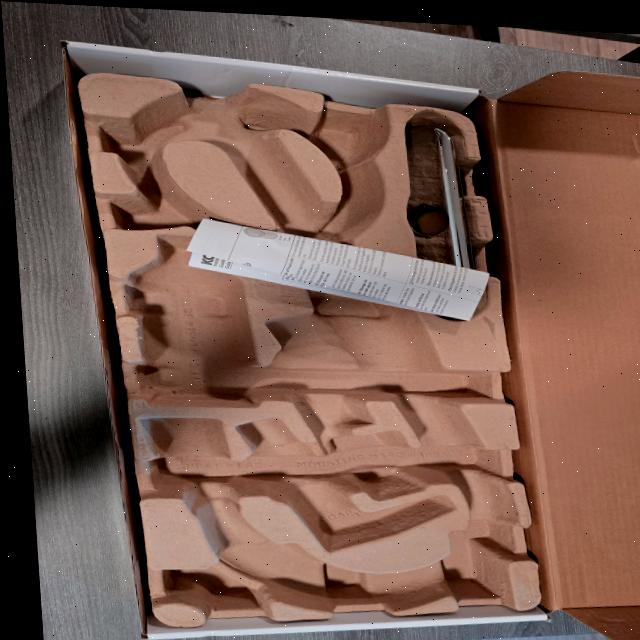1m: (141, 78, 514, 609)
2m: (236, 417, 452, 551)
3m: (128, 232, 252, 402)
4o: (406, 125, 480, 315)
5m: (310, 116, 376, 169)
6m: (102, 107, 189, 158)
7m: (117, 188, 204, 229)
8: (186, 215, 487, 322)
